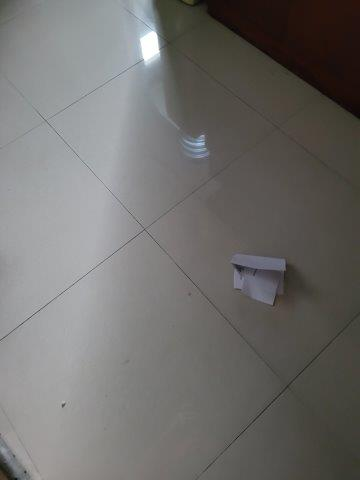kertas: (232, 253, 287, 308)
